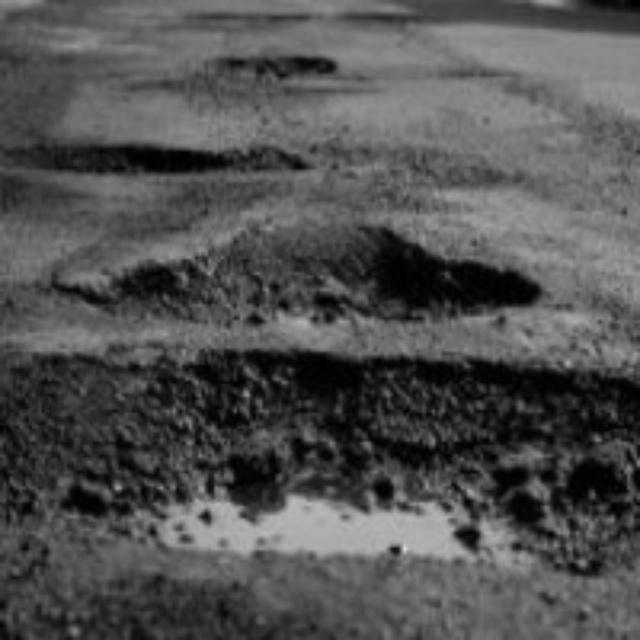Pothole: (82, 348, 575, 600), (191, 214, 461, 354), (13, 109, 205, 213), (211, 57, 337, 90)
